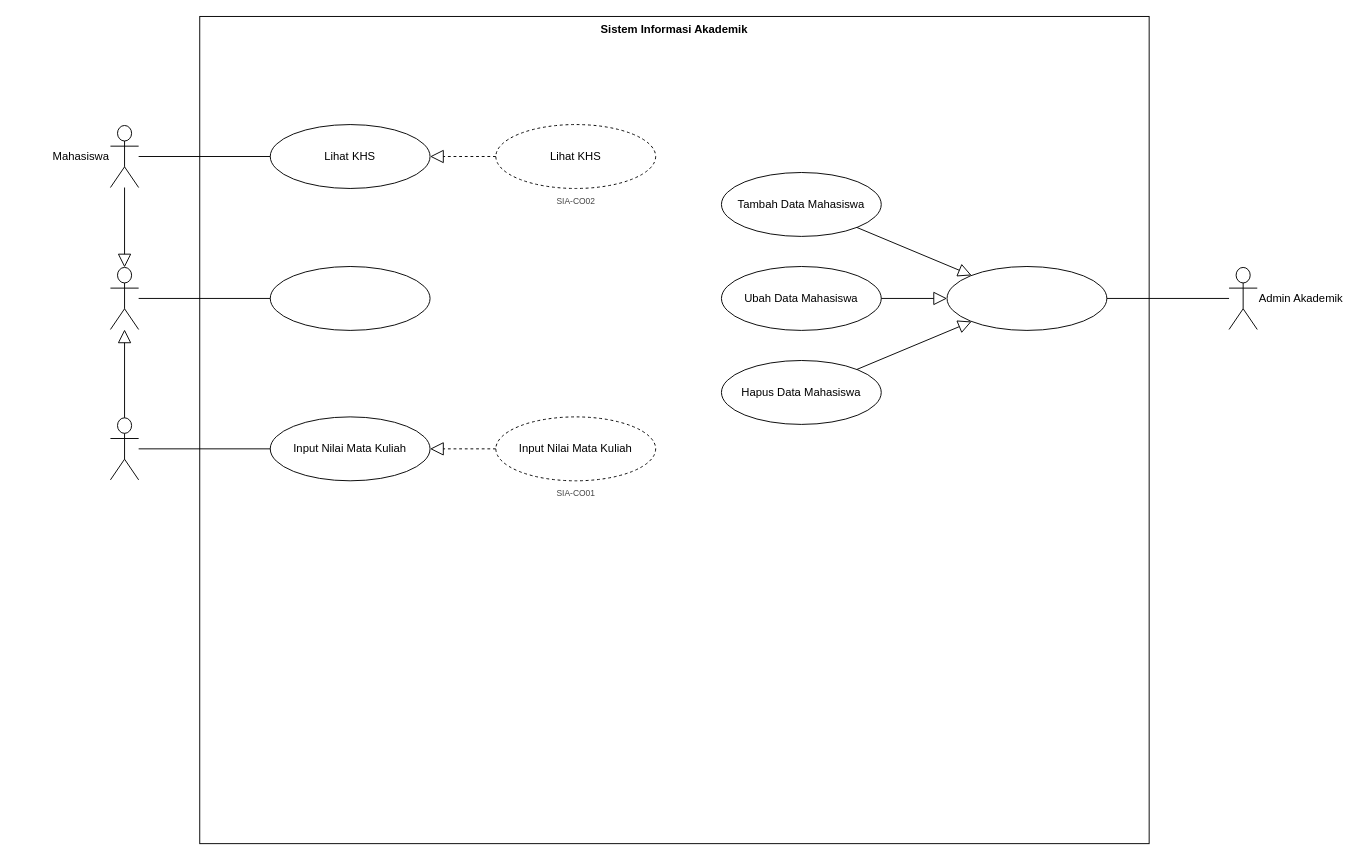
Image size: 1358x860. Some labels were removed from this diagram. The box of each missing label's shape, as (x1, y1, x2, y2) in pixels:
Civitas Akademika: (110, 266, 139, 329)
Dosen: (110, 417, 139, 480)
Kelola Data Mahasiswa: (946, 266, 1107, 330)
Lihat Kalender Akademik: (269, 266, 430, 330)
